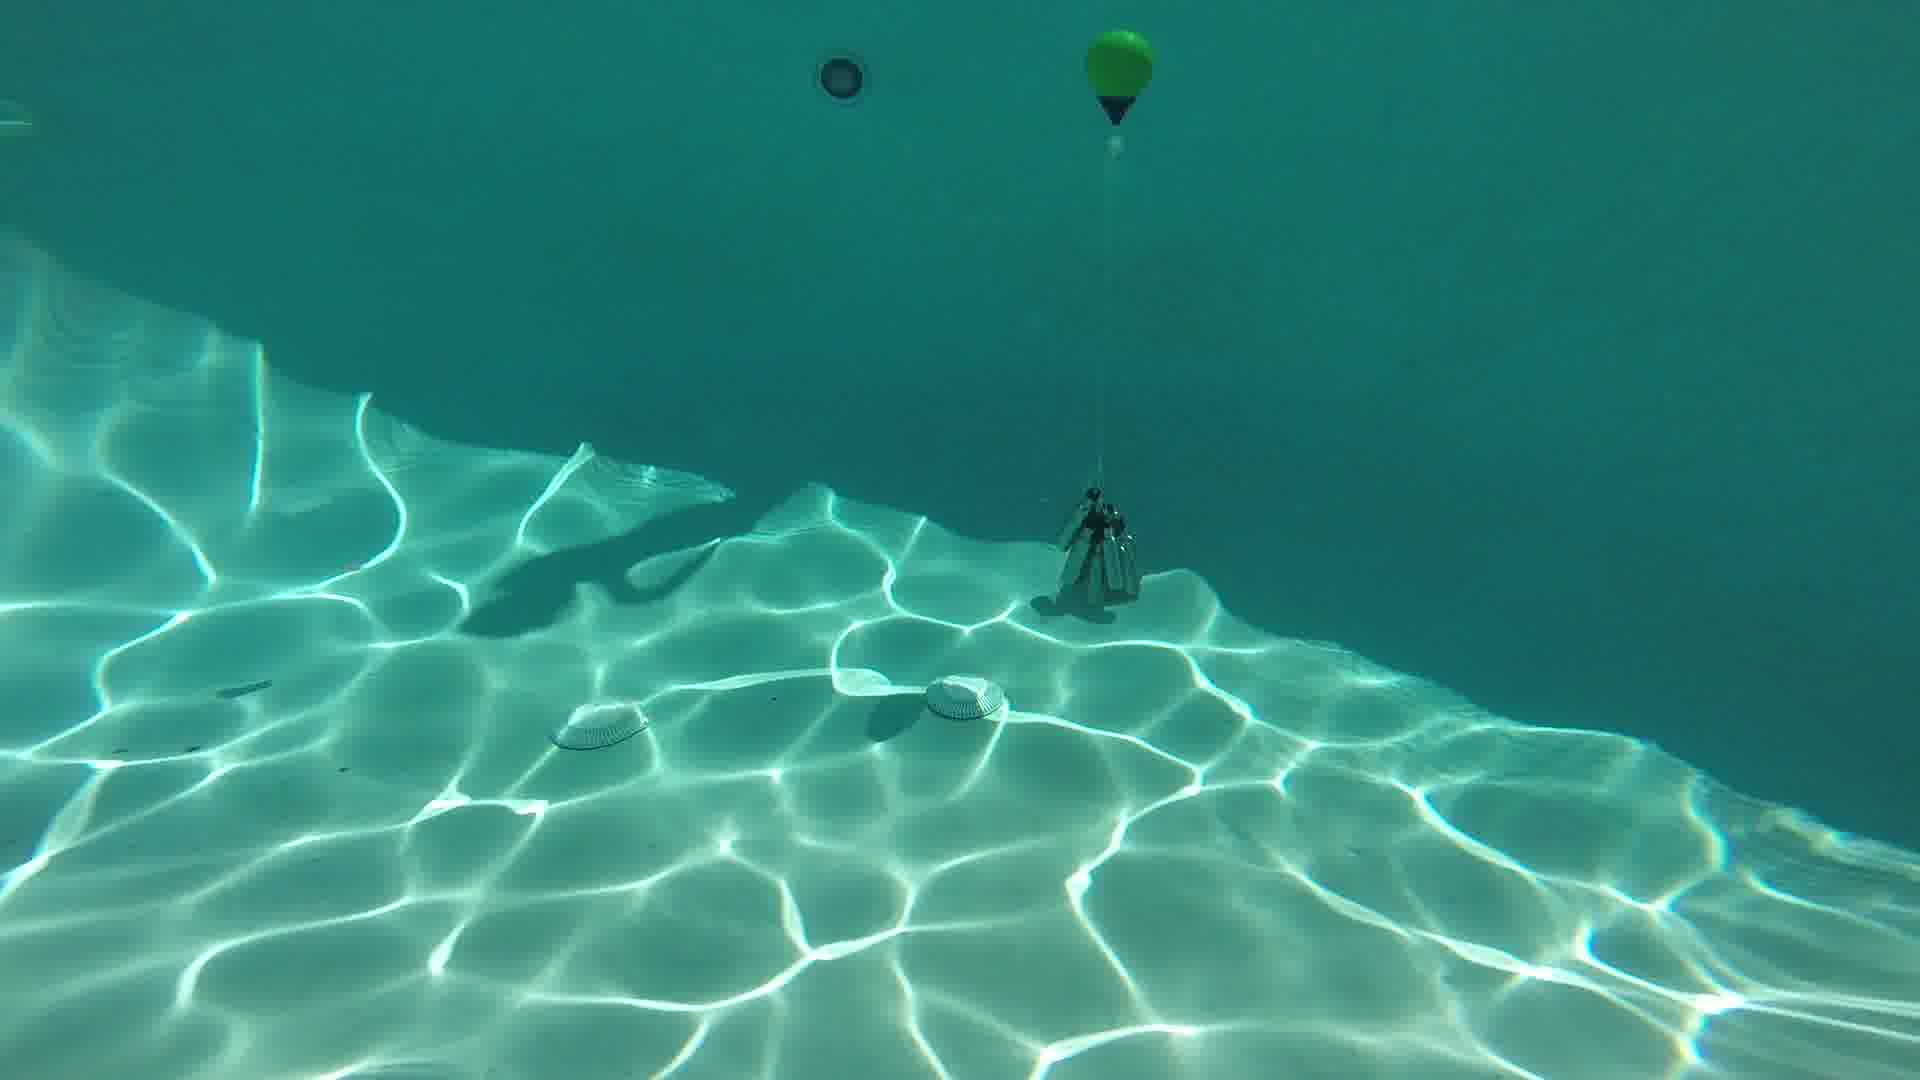yellow_buoy: (1083, 26, 1156, 157)
